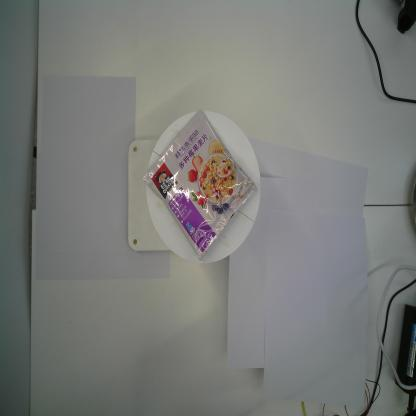Instant Drink: (142, 107, 256, 262)
